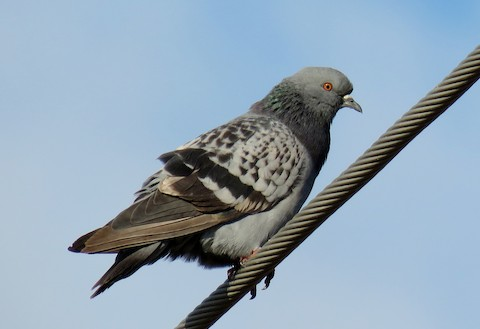pigeon: (65, 63, 366, 309)
